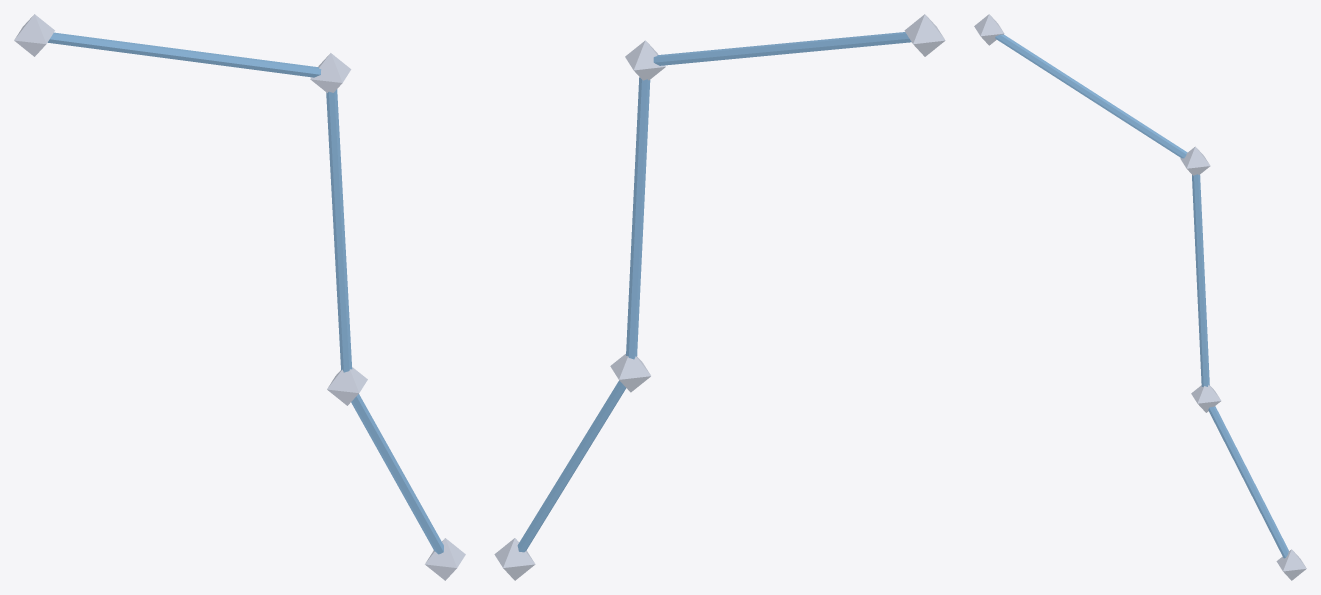
Rendered from constellation-cae.glb.
3 views of the same model, side by side, from view 1: azimuth 30°, elevation 25°; view 2: azimuth 150°, elevation 25°; view 3: azimuth 330°, elevation 25° (orthographic). The views are drawn at different scales.
Bounding box in the file's own units: 0.745 × 1.05 × 0.0955.
